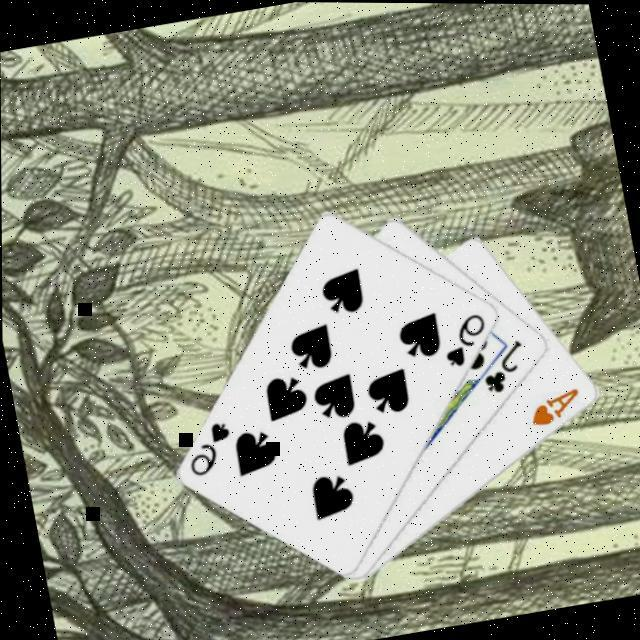9S: (176, 416, 237, 480), (433, 307, 492, 370)
AH: (521, 383, 585, 430)
JC: (471, 333, 530, 397)
